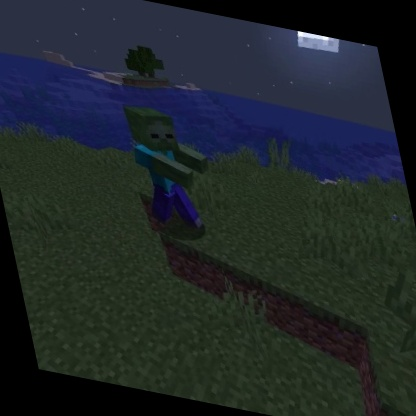zombie: (117, 99, 227, 241)
